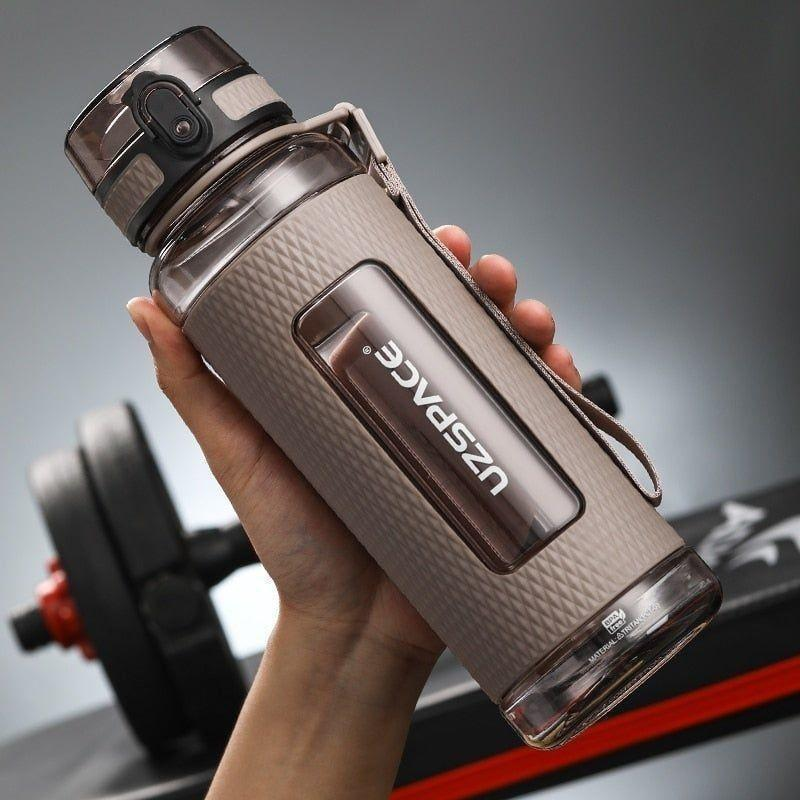gym bottle: (65, 25, 722, 748)
